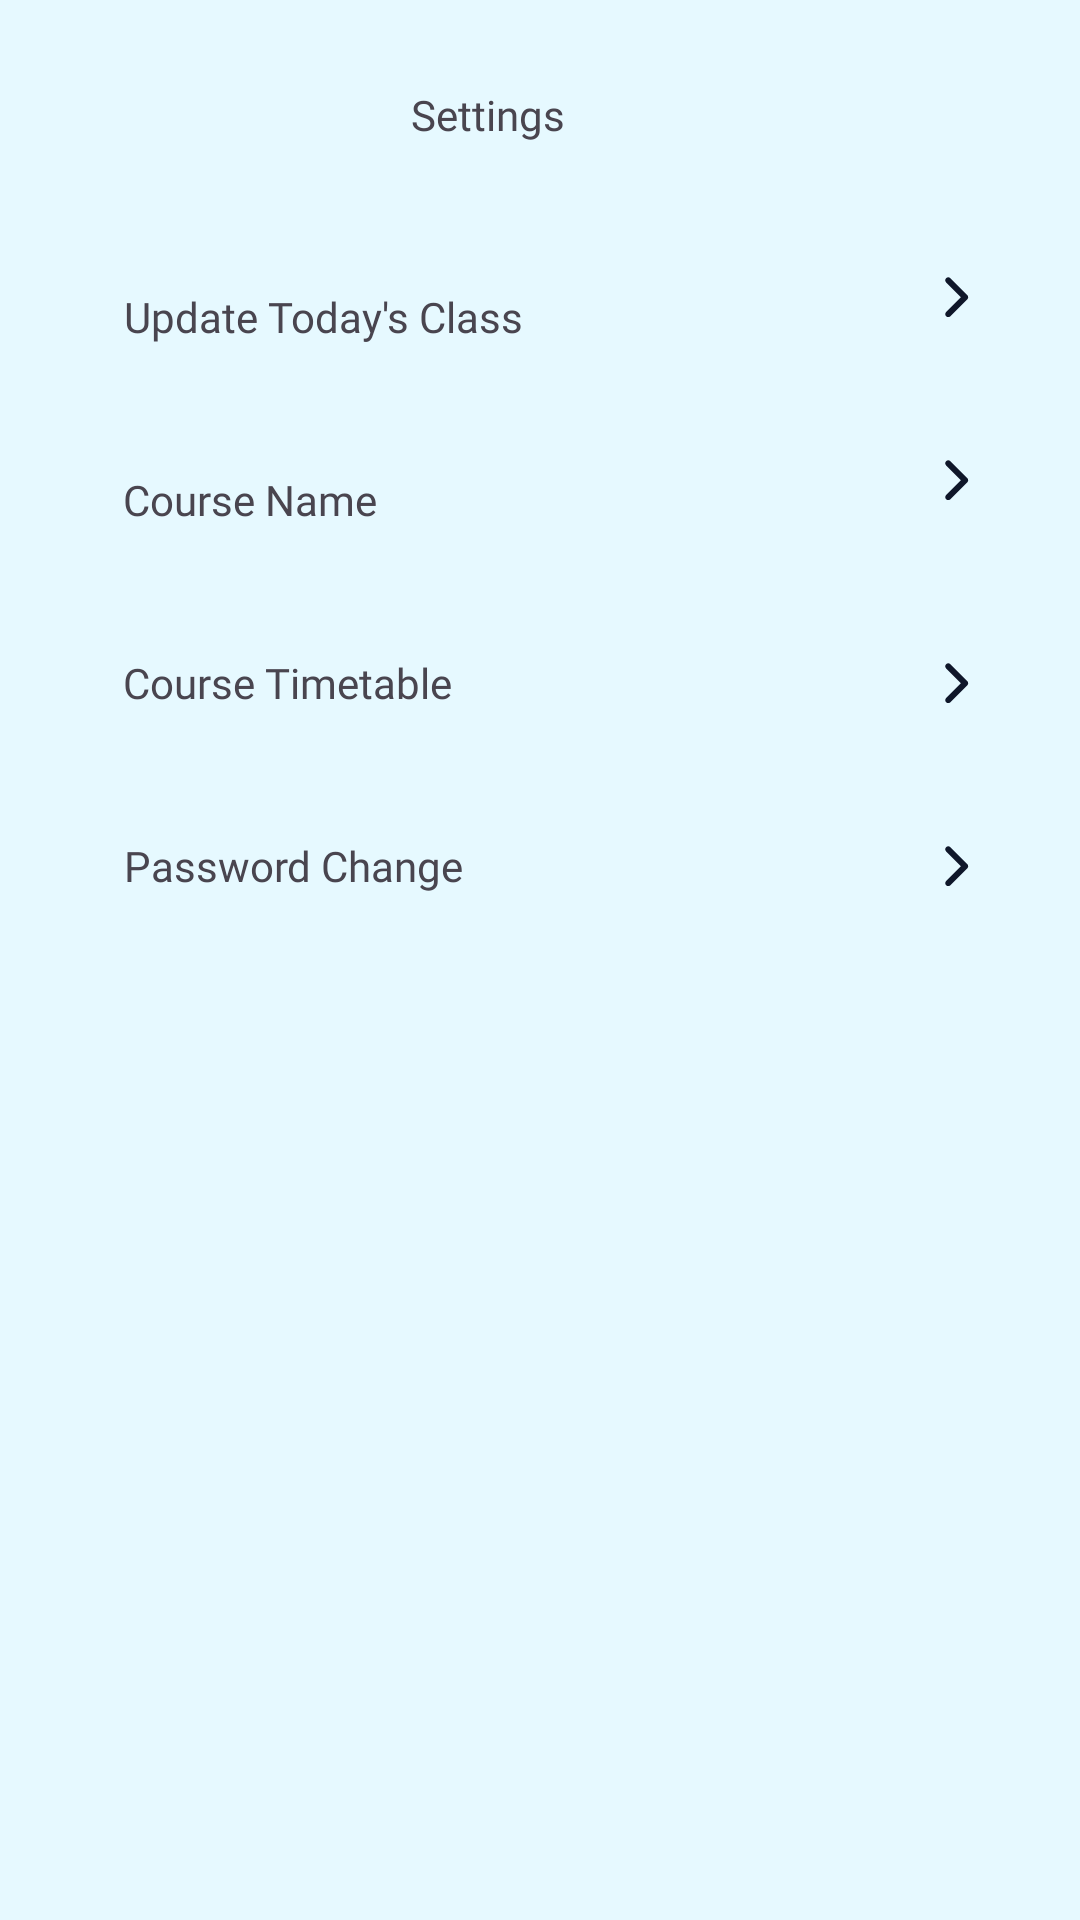

Icon bounding boxes for this 1080×1920 phone screenshot, format detection(x1, y1, x2, y2):
chevron right: detection(945, 277, 969, 317), detection(945, 460, 969, 500), detection(945, 663, 969, 703), detection(945, 846, 969, 886)
